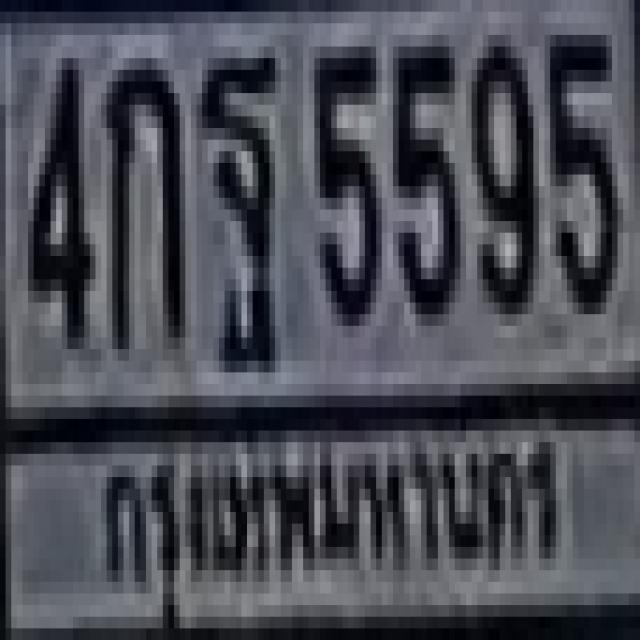4: (25, 46, 87, 338)
5: (544, 23, 612, 303), (387, 35, 455, 314), (309, 35, 376, 314)
9: (466, 23, 533, 303)
A01: (101, 46, 180, 338)
A16: (197, 46, 275, 338)
BKK: (86, 423, 569, 594)
